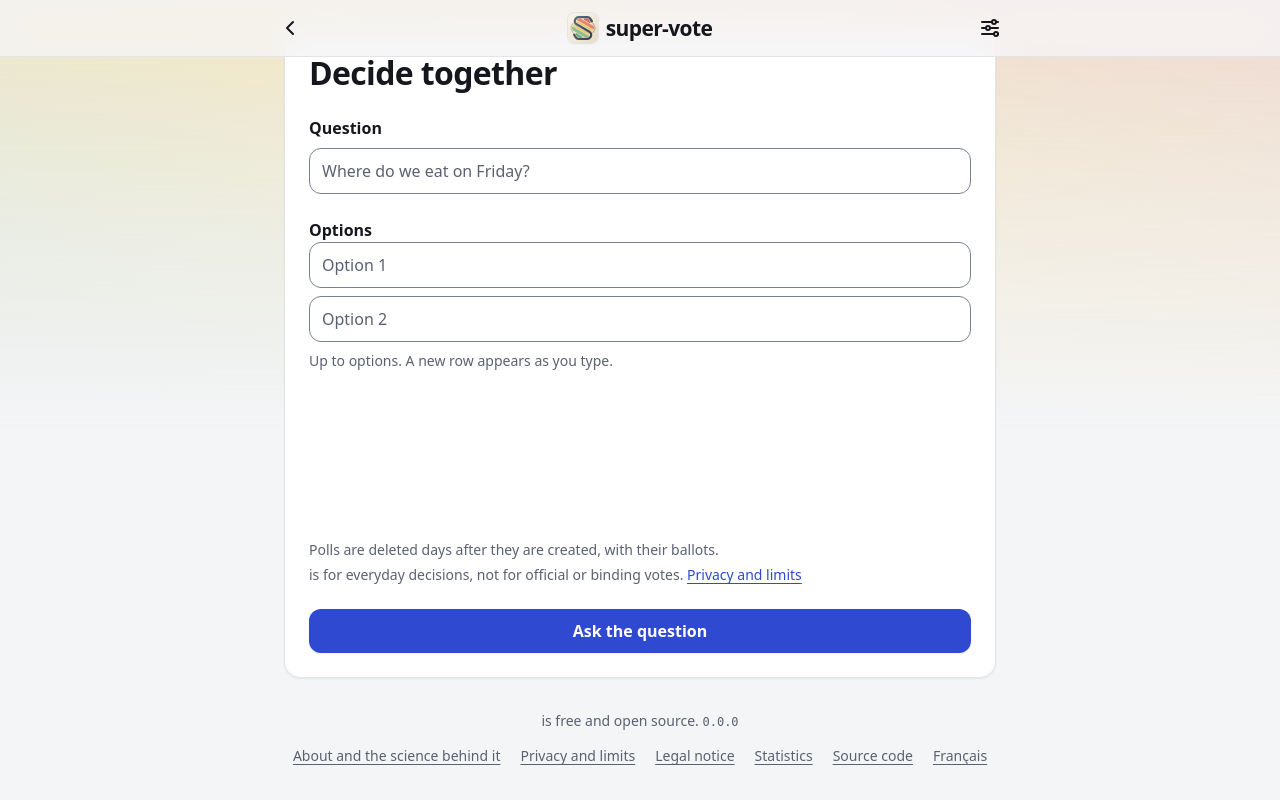
Scenario: the app › says who publishes and hosts super-vote, and where to report a poll, from every page
The image size is (1280, 800).
(page scrolled)
Click the link "Legal notice" at x=695, y=756, box [655,746,735,765]
(page scrolled)
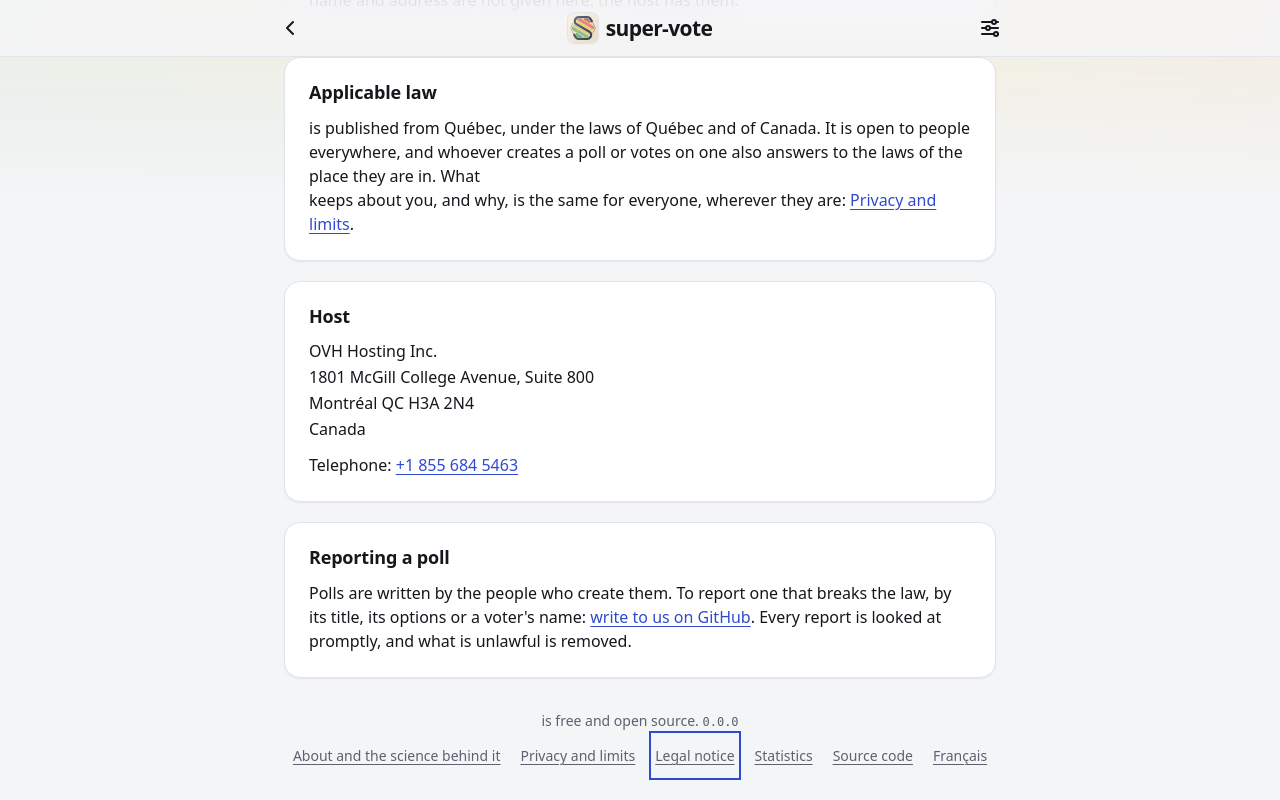
expect the heading "Host" is shown: met, box [309,304,350,328]
expect the heading "Reporting a poll" is shown: met, box [309,545,450,569]
expect the text "OVH Hosting Inc." is shown: met, box [309,340,437,362]
